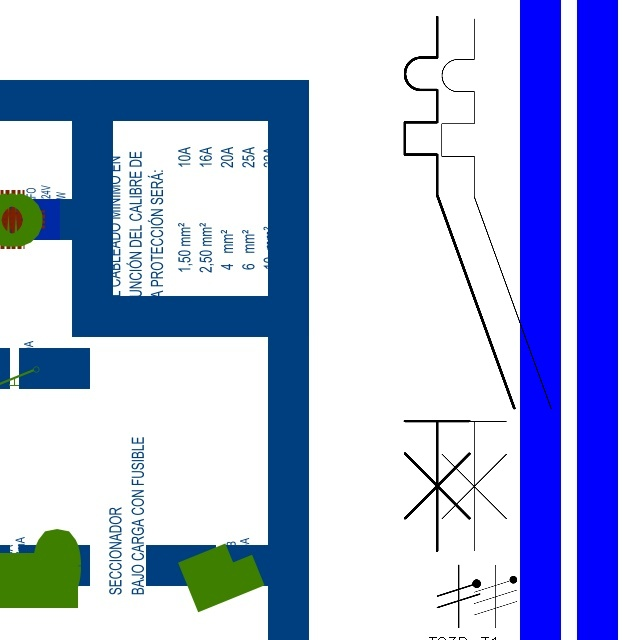interruptor_termomagnetico: (391, 3, 528, 564), (428, 5, 565, 565)
